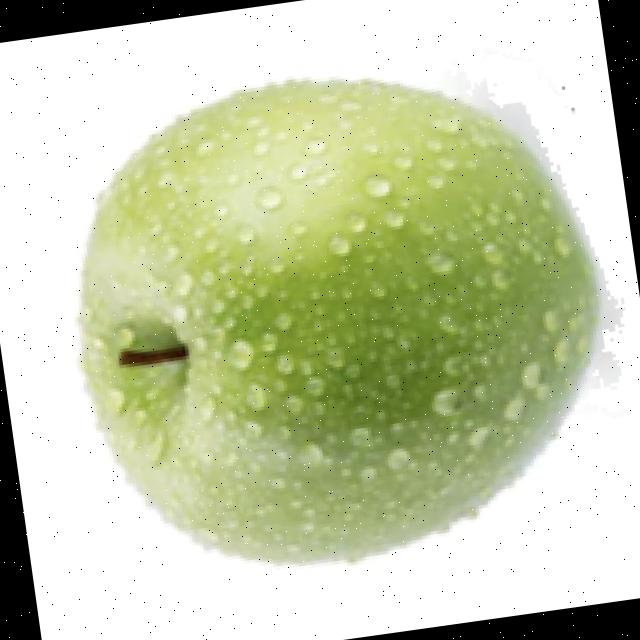apple: (71, 59, 626, 572)
